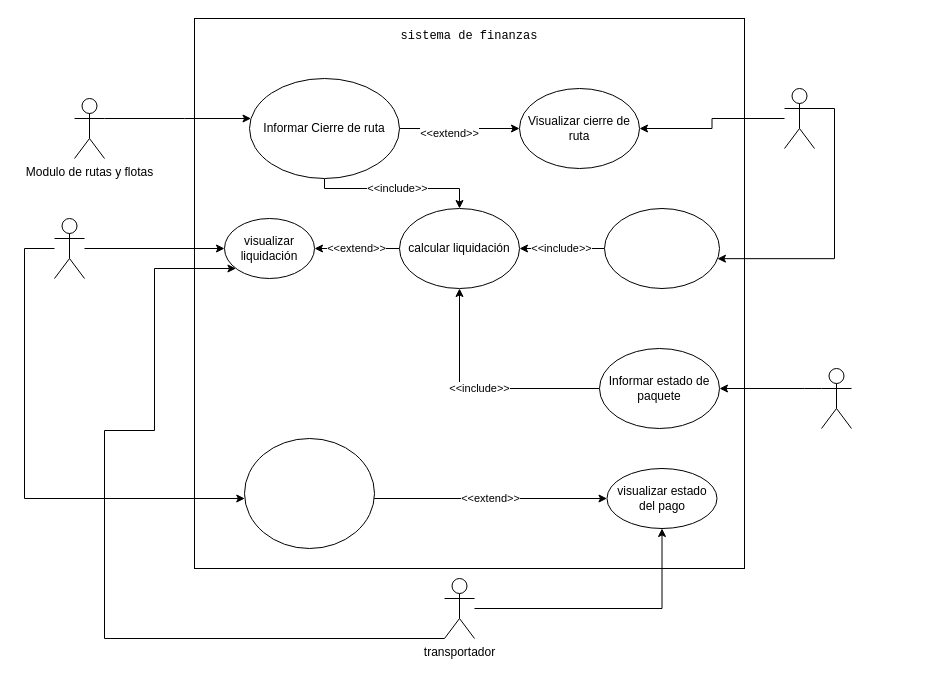
This 937x692 diagram has some shape labels left out. The box of each missing label's shape, as (x1, y1, x2, y2) in pixels:
Entidad financiera: (54, 218, 84, 278)
Gestor de tarifas: (784, 88, 814, 148)
Modulo de gestión de paquetes: (820, 368, 852, 428)
Registrar el modelo de contratación: (604, 208, 720, 288)
Registrar estado del pago: (244, 438, 374, 548)
